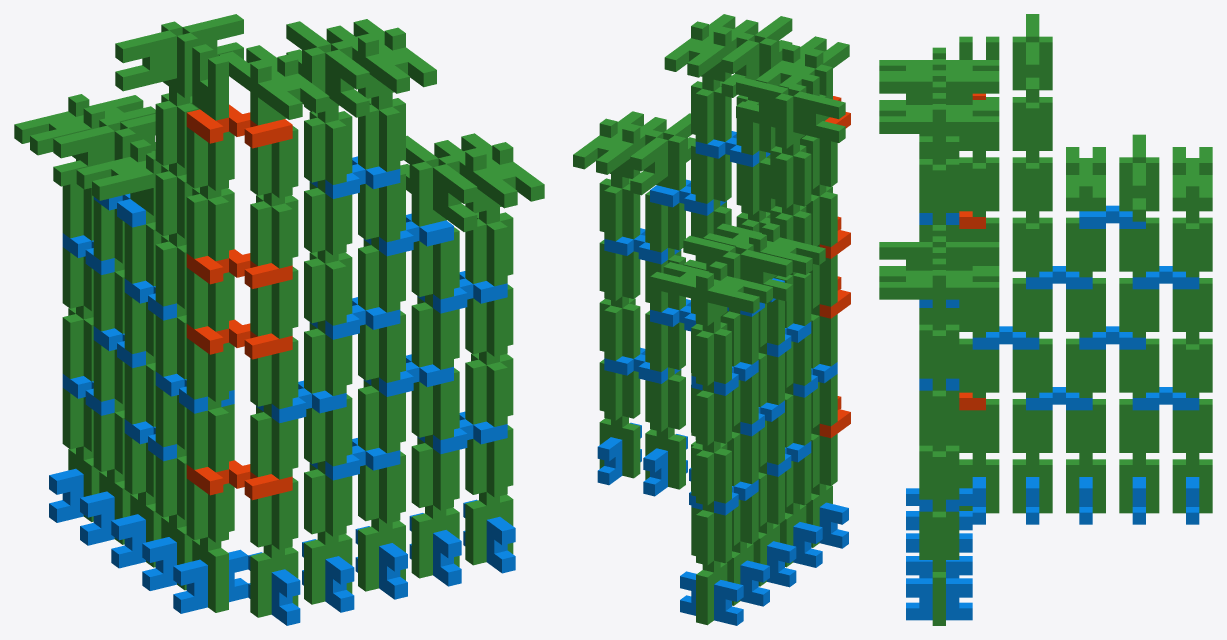
3 views of the same model, side by side, from view 1: azimuth 30°, elevation 25°; view 2: azimuth 150°, elevation 25°; view 3: azimuth 270°, elevation 25° (orthographic). The views are drawn at different scales.
Visible parts, largest first — view 1: H_SIM (×69), X_SIM (×25), L_SIM (×4); view 2: H_SIM (×56), X_SIM (×18), L_SIM (×3); view 3: H_SIM (×47), X_SIM (×17).
Part boxes in pixels (x1,y1,x2,y2): H_SIM (×69): [14, 14, 544, 617]; X_SIM (×25): [49, 156, 515, 625]; L_SIM (×4): [186, 104, 292, 500]; H_SIM (×56): [573, 14, 849, 625]; X_SIM (×18): [597, 131, 848, 625]; L_SIM (×3): [819, 216, 850, 438]; H_SIM (×47): [879, 14, 1212, 625]; X_SIM (×17): [906, 205, 1199, 620].
Bounding box in the file's own units: 3.25 × 5.07 × 3.25.
